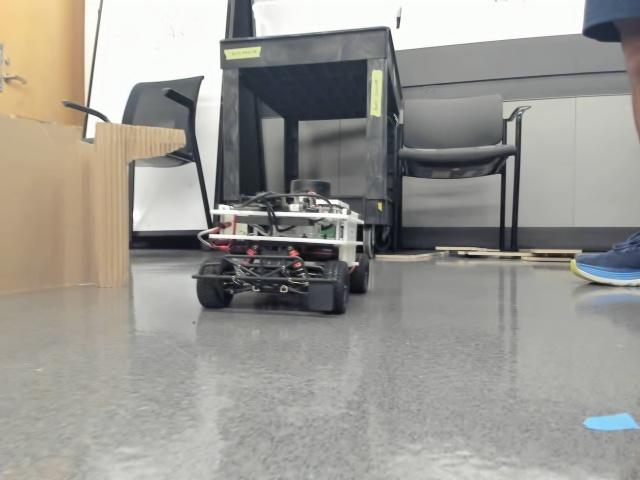Car: (195, 180, 370, 313)
